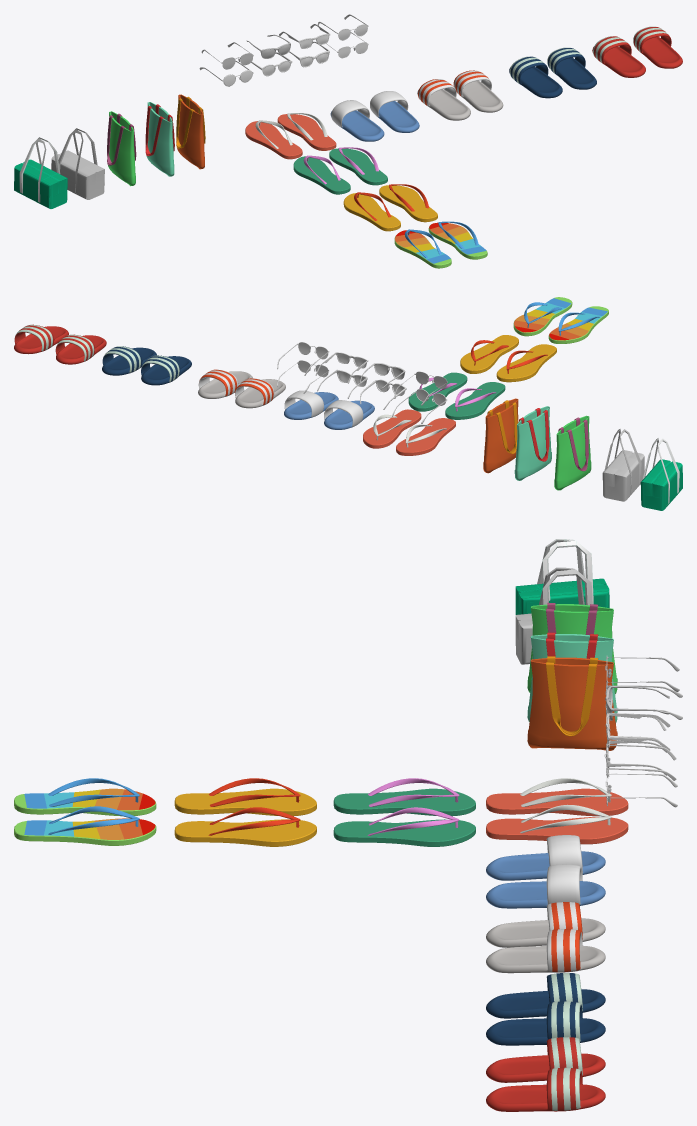
File: flippers,glsses.fbx
3 renders of one model, top to bottom at view 1: azimuth 30°, elevation 25°; view 2: azimuth 150°, elevation 25°; view 3: azimuth 270°, elevation 25°, orthographic. The views are drawn at different scales.
Parts seen in each view (by area): view 1: Flipflop.003, Flipflop.004, Flipflop.007, Flipflop, BEACHBAG2COLOR2, BEACHBAG2COLOR1, BEACHBAG1COLOR2, BEACHBAG1COLOR1, BEACHBAG1COLOR3, slipper.004, slipper.002, slipper (+5 smaller); view 2: Flipflop.007, Flipflop, Flipflop.004, Flipflop.003, BEACHBAG1COLOR3, BEACHBAG1COLOR2, BEACHBAG1COLOR1, BEACHBAG2COLOR2, BEACHBAG2COLOR1, slipper.007, slipper.004, slipper.002 (+13 smaller); view 3: BEACHBAG1COLOR1, Flipflop.003, Flipflop.004, Flipflop.007, Flipflop, slipper.007, slipper.003, slipper.001, slipper.005, slipper.006, slipper, slipper.004 (+5 smaller).
Boxes of the visible parts, left/top/right/bottom form: Flipflop.003: left=293, top=147, right=387, bottom=194; Flipflop.004: left=343, top=184, right=437, bottom=231; Flipflop.007: left=394, top=221, right=487, bottom=268; Flipflop: left=245, top=113, right=336, bottom=159; BEACHBAG2COLOR2: left=14, top=137, right=67, bottom=208; BEACHBAG2COLOR1: left=51, top=128, right=104, bottom=199; BEACHBAG1COLOR2: left=145, top=102, right=174, bottom=176; BEACHBAG1COLOR1: left=176, top=94, right=205, bottom=169; BEACHBAG1COLOR3: left=107, top=111, right=136, bottom=186; slipper.004: left=509, top=56, right=562, bottom=98; slipper.002: left=417, top=79, right=470, bottom=120; slipper: left=330, top=100, right=384, bottom=141; Flipflop.007: left=513, top=297, right=608, bottom=343; Flipflop: left=363, top=409, right=455, bottom=455; Flipflop.004: left=460, top=335, right=556, bottom=382; Flipflop.003: left=408, top=372, right=505, bottom=419; BEACHBAG1COLOR3: left=554, top=415, right=591, bottom=490; BEACHBAG1COLOR2: left=514, top=406, right=551, bottom=480; BEACHBAG1COLOR1: left=483, top=398, right=518, bottom=473; BEACHBAG2COLOR2: left=640, top=438, right=682, bottom=510; BEACHBAG2COLOR1: left=602, top=429, right=644, bottom=501; slipper.007: left=14, top=324, right=68, bottom=354; slipper.004: left=141, top=355, right=191, bottom=385; slipper.002: left=235, top=378, right=285, bottom=408; BEACHBAG1COLOR1: left=527, top=656, right=617, bottom=750; Flipflop.003: left=333, top=778, right=475, bottom=846; Flipflop.004: left=174, top=778, right=316, bottom=846; Flipflop.007: left=14, top=778, right=156, bottom=845; Flipflop: left=486, top=778, right=628, bottom=844; slipper.007: left=486, top=1067, right=605, bottom=1111; slipper.003: left=486, top=929, right=605, bottom=973; slipper.001: left=486, top=864, right=605, bottom=908; slipper.005: left=486, top=1001, right=605, bottom=1045; slipper.006: left=486, top=1037, right=605, bottom=1082; slipper: left=486, top=835, right=605, bottom=880; slipper.004: left=486, top=973, right=605, bottom=1018.
Bounding box in the file's own units: 973 × 121 × 555.
